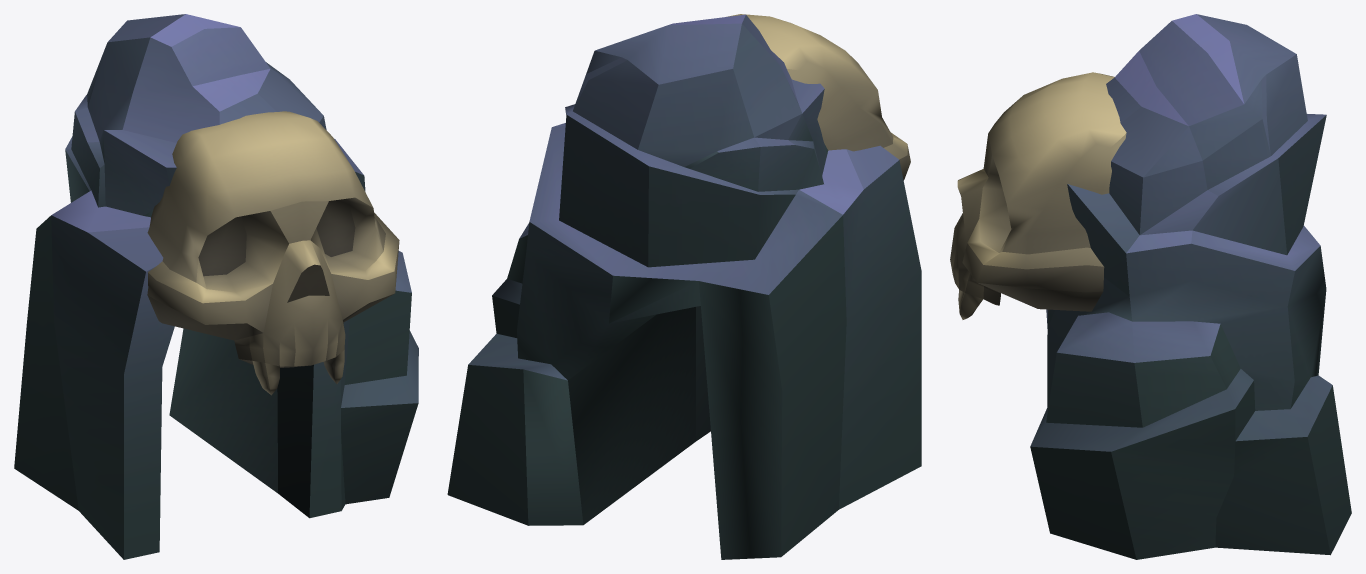
Rendered from skull_door.fbx.
3 views of the same model, side by side, from view 1: azimuth 30°, elevation 25°; view 2: azimuth 150°, elevation 25°; view 3: azimuth 270°, elevation 25° (orthographic). The views are drawn at different scales.
Visible parts, largest first — view 1: undead_mine_enterance; view 2: undead_mine_enterance; view 3: undead_mine_enterance.
Part boxes in pixels (x1,y1,x2,y2): undead_mine_enterance: (14,14,418,559); undead_mine_enterance: (447,14,921,559); undead_mine_enterance: (950,14,1351,559).
Size of the model in its own units: 724 by 791 by 960.
